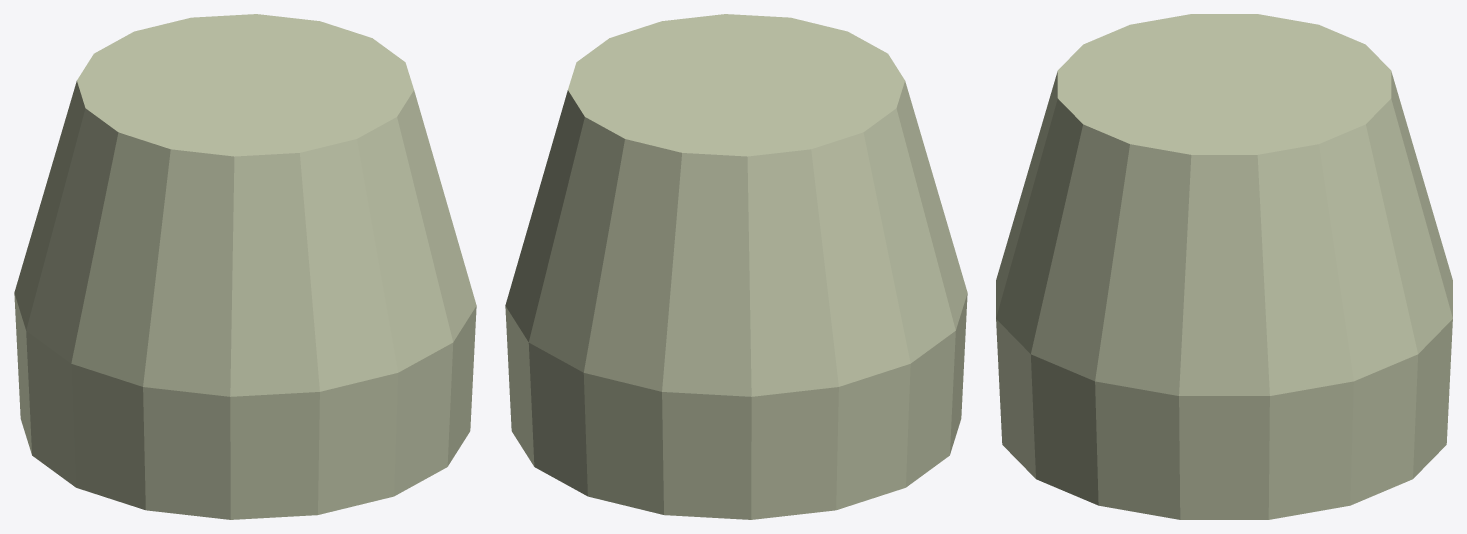
The model's file is Hamal_Control_2_Collider.obj.
3 renders of one model, left to right at view 1: azimuth 30°, elevation 25°; view 2: azimuth 150°, elevation 25°; view 3: azimuth 270°, elevation 25°, orthographic.
Visible parts, largest first — view 1: Hamal_Control_2_Collider; view 2: Hamal_Control_2_Collider; view 3: Hamal_Control_2_Collider.
Part boxes in pixels (left/top/right/bottom): Hamal_Control_2_Collider: left=14, top=14, right=476, bottom=519; Hamal_Control_2_Collider: left=505, top=14, right=967, bottom=519; Hamal_Control_2_Collider: left=996, top=14, right=1452, bottom=519.
Size of the model in its own units: 1.28 by 1.06 by 1.28.
